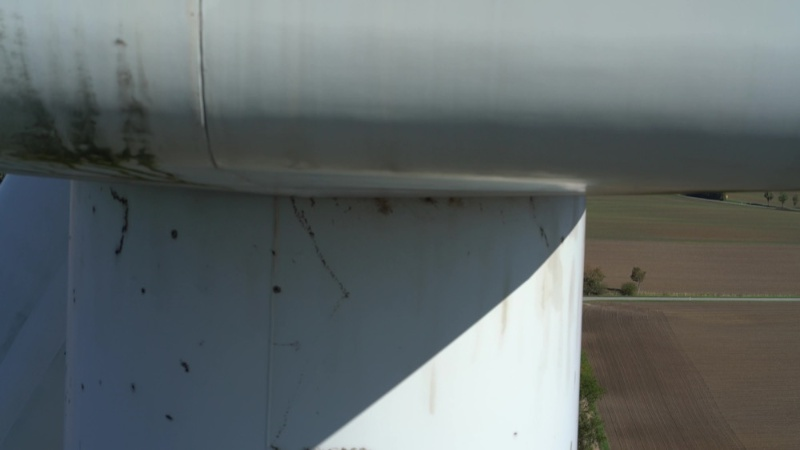weldseam: (255, 196, 287, 450)
